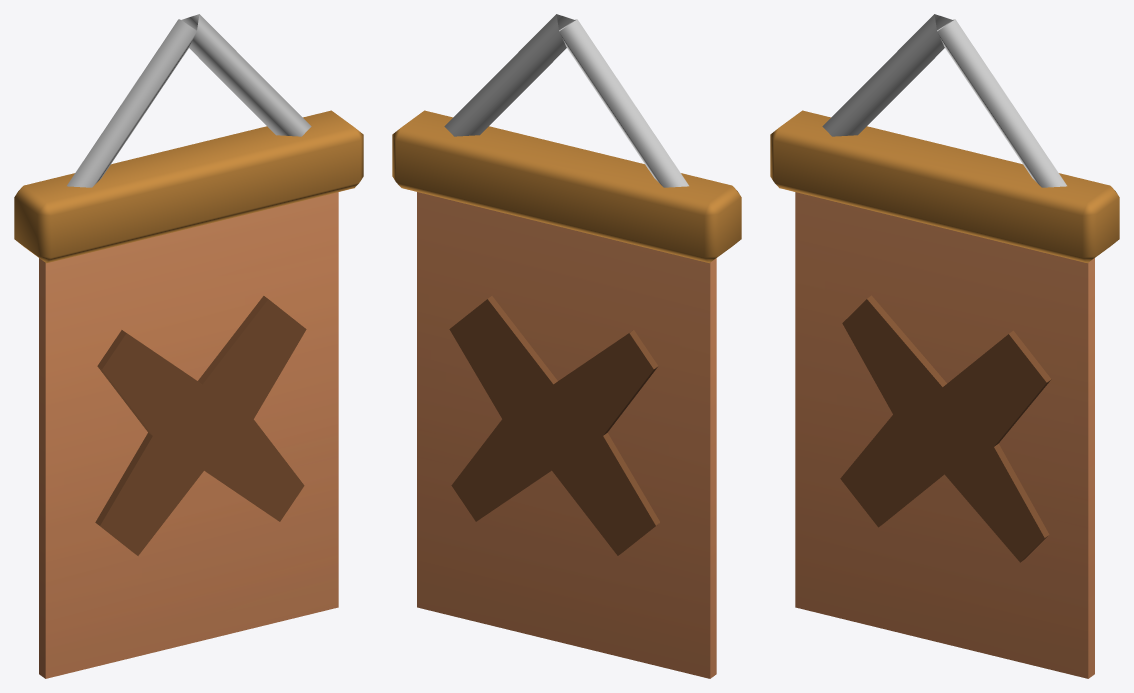
File: drone_indicator_004.fbx
3 renders of one model, left to right at view 1: azimuth 30°, elevation 25°; view 2: azimuth 150°, elevation 25°; view 3: azimuth 330°, elevation 25°, orthographic.
Parts seen in each view (by area): view 1: drone_indicator_004; view 2: drone_indicator_004; view 3: drone_indicator_004.
Boxes of the visible parts, x1,y1,x2,y2 form: drone_indicator_004: [14, 14, 363, 678]; drone_indicator_004: [392, 14, 741, 678]; drone_indicator_004: [770, 14, 1119, 678].
Bounding box in the file's own units: 163 × 29.12 × 299.
